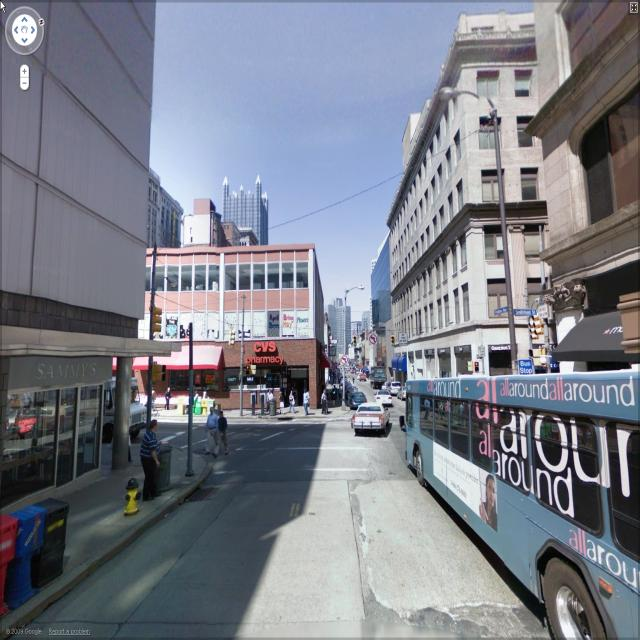b_1: (392, 14, 550, 380), (117, 248, 339, 422), (543, 2, 640, 361), (125, 167, 192, 274), (365, 238, 413, 378), (222, 176, 290, 252)
